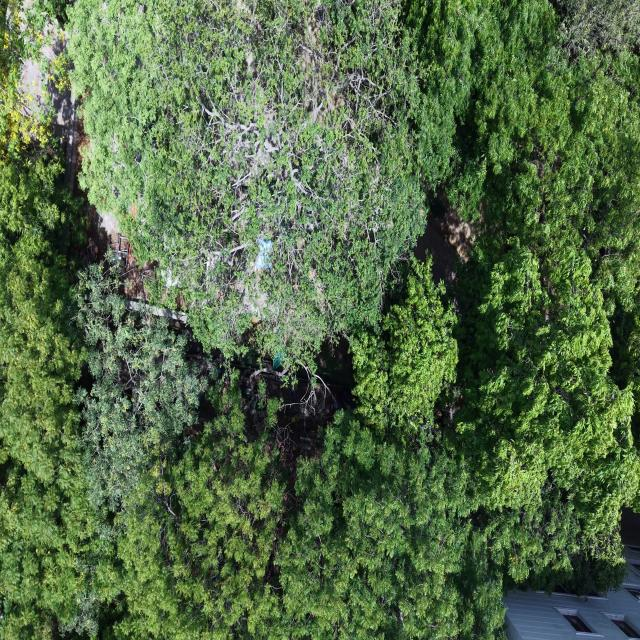VEGETATION_TREE: (0, 0, 639, 639), (81, 266, 502, 638), (70, 0, 425, 363), (443, 2, 639, 585), (277, 264, 503, 639), (0, 2, 104, 638), (456, 239, 639, 587), (0, 150, 100, 638), (117, 372, 289, 638), (77, 265, 207, 512), (350, 259, 457, 439), (0, 0, 68, 163), (0, 0, 50, 163)
